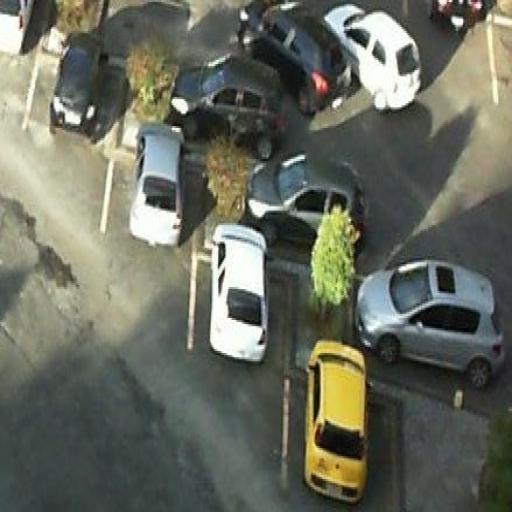car: (356, 258, 507, 388), (236, 0, 354, 122), (242, 153, 371, 260), (168, 56, 289, 165), (320, 0, 424, 116), (302, 336, 369, 510), (206, 223, 272, 365), (127, 120, 188, 252), (48, 31, 110, 142), (0, 0, 36, 56)
